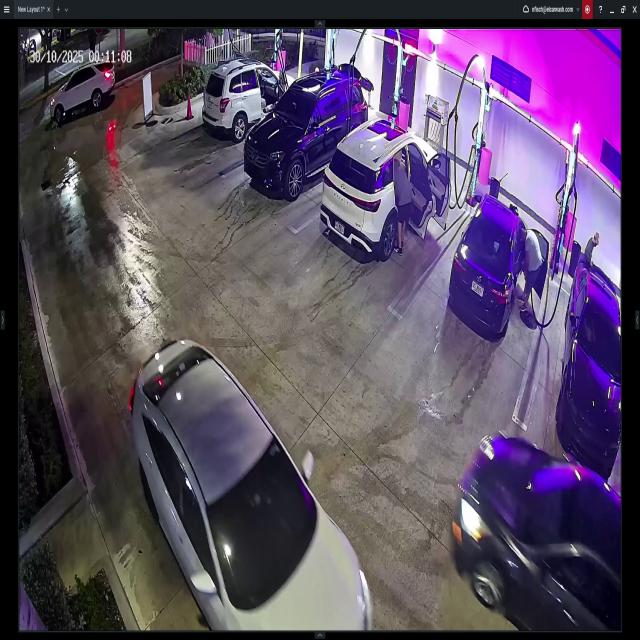Car: (132, 333, 371, 630), (444, 434, 623, 634), (325, 119, 450, 262), (448, 197, 548, 335), (245, 84, 366, 198), (561, 256, 620, 480), (208, 52, 297, 136), (46, 62, 116, 122)
